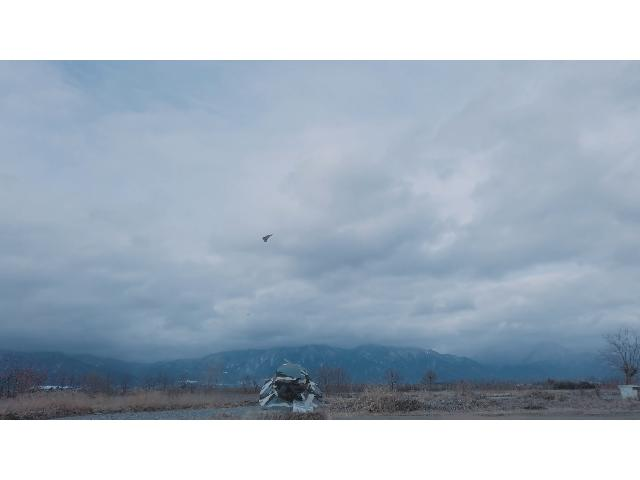Anti-Drone: (261, 232, 273, 244)
